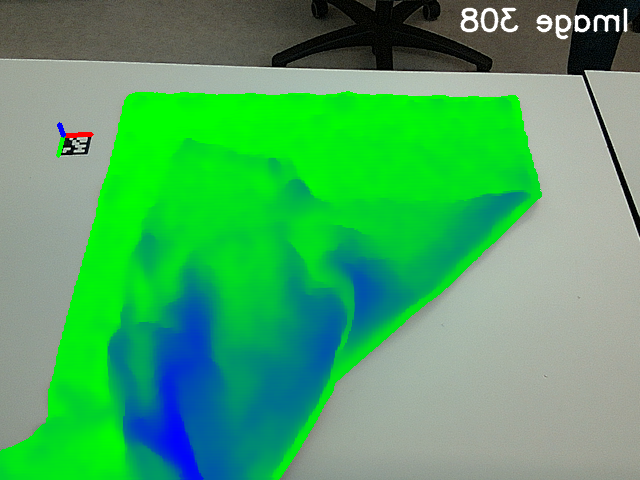V: (171, 129, 215, 169)
